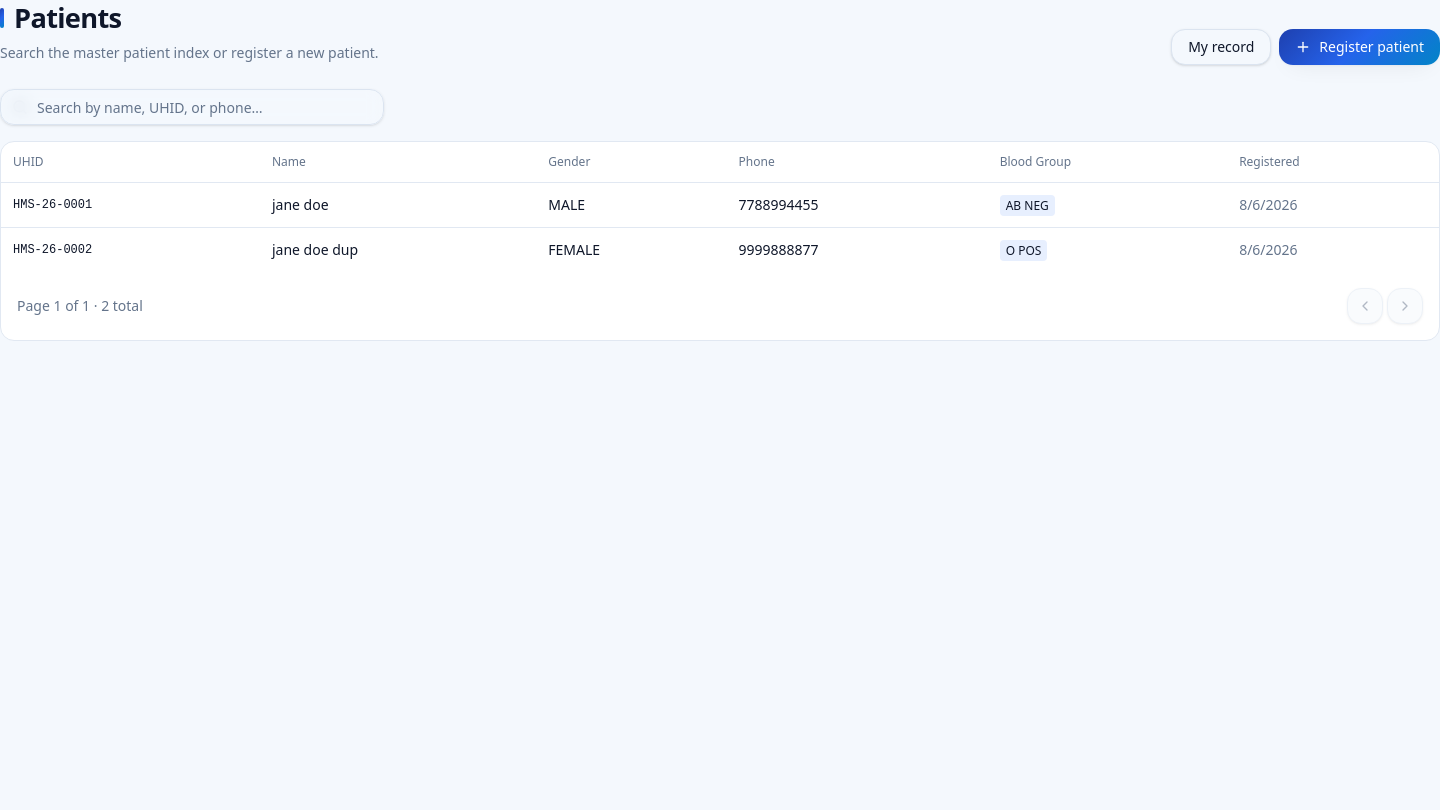
Test case: PatientsPage detail dialog actions › opens the patient detail dialog
Click the text "jane doe" at (300, 204), box x1=260 y1=182 x2=536 y2=227
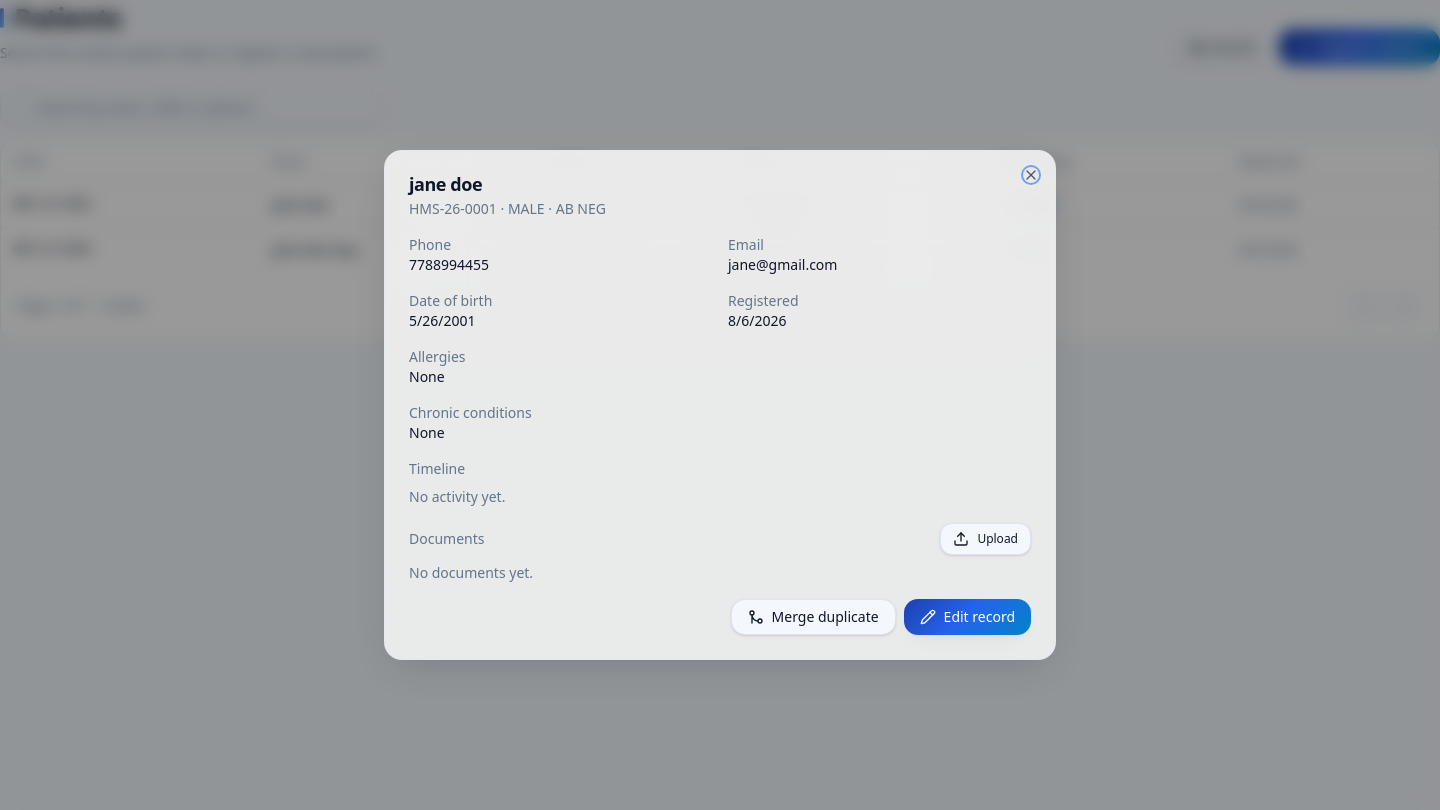
Check: the button "Merge duplicate" is shown, box x1=731 y1=599 x2=896 y2=635
Check: the button "Edit record" is shown, box x1=904 y1=599 x2=1031 y2=635
Check: the button "Upload" is shown, box x1=940 y1=523 x2=1031 y2=555
